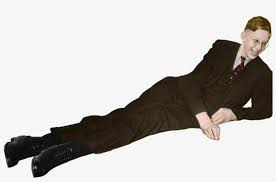no-mask: (238, 21, 272, 62)
